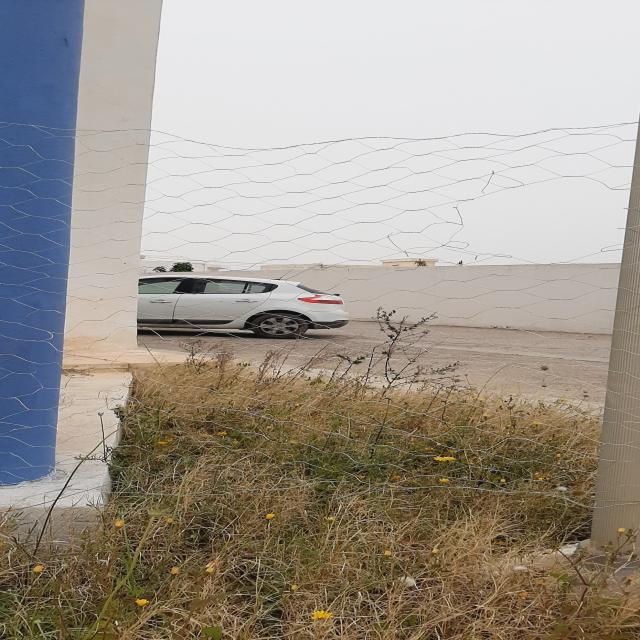fence line: (438, 179, 617, 269)
